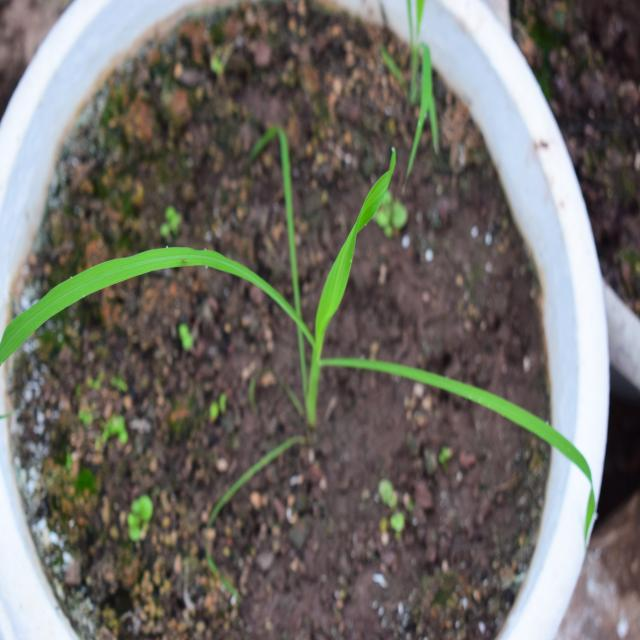barnyard_grass: (0, 130, 596, 498)
